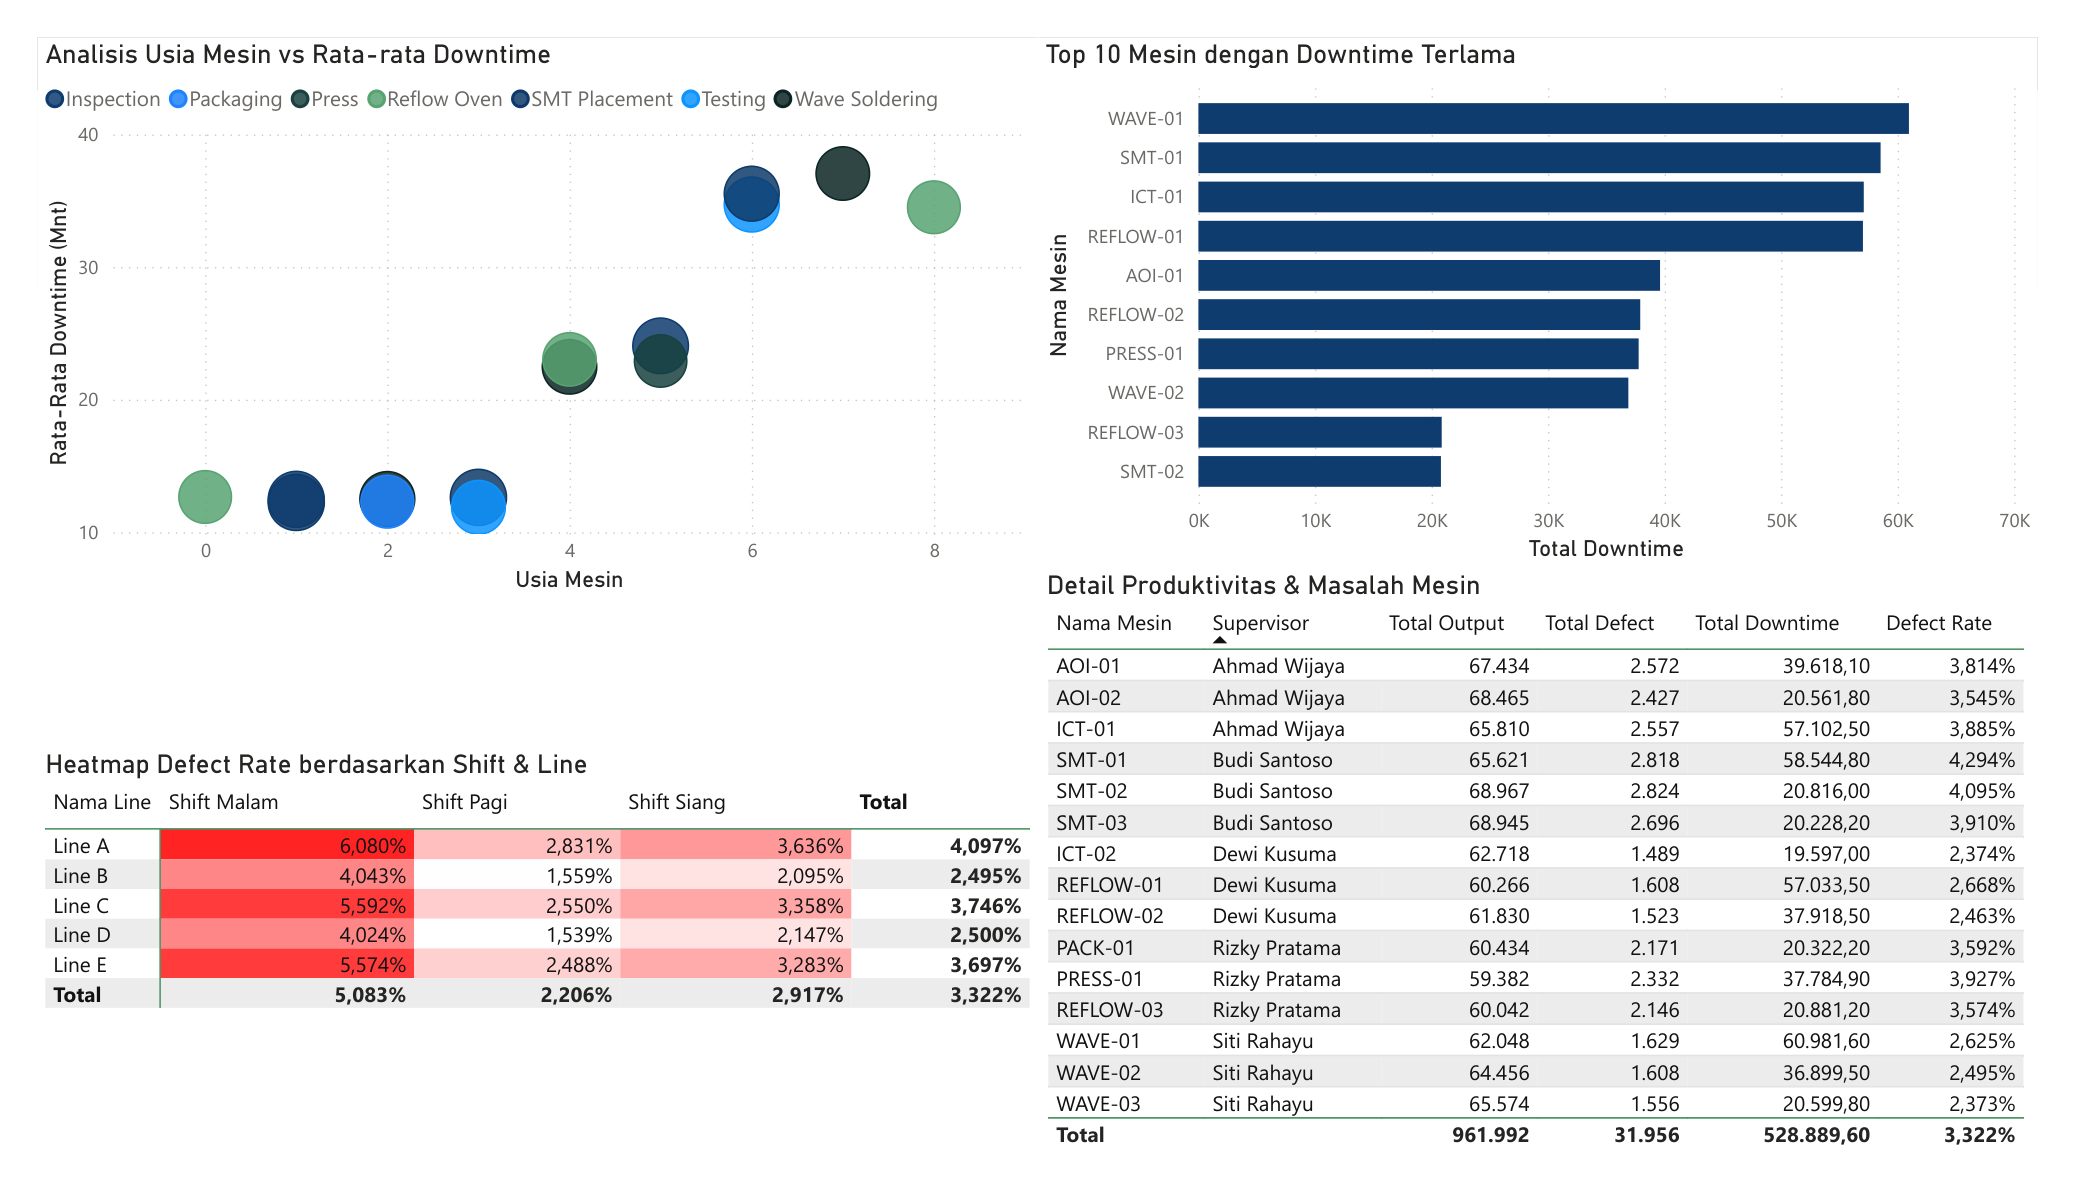

This screenshot's page, from the dashboard's own definition file:
{"tool":"powerbi","page":{"name":"Equipment & Shift Performance","canvas":[1280,720],"ordinal":1},"visuals":[{"type":"scatterChart","title":"Analisis Usia Mesin vs Rata-rata Downtime","fields":{"X":["machine_dim_cleaned.Usia Mesin"],"Size":["Sum(production_fact_cleaned.output_qty)"],"Series":["machine_dim_cleaned.machine_type"],"Y":["Avg(production_fact_cleaned.downtime_minutes1)"]},"box":[0,0,641,360.4],"z":0},{"type":"barChart","title":"Top 10 Mesin dengan Downtime Terlama","fields":{"Category":["machine_dim_cleaned.machine_name"],"Y":["Sum(production_fact_cleaned.downtime_minutes1)"]},"box":[639.5,0,641,339.7],"z":1000},{"type":"pivotTable","title":"Heatmap Defect Rate berdasarkan Shift & Line","fields":{"Rows":["line_dim_cleaned.line_name"],"Columns":["shift_dim_cleaned.shift_name"],"Values":["_Measures.Defect Rate"]},"box":[0,454.9,641,177.2],"z":2000},{"type":"tableEx","title":"Detail Produktivitas & Masalah Mesin","fields":{"Values":["machine_dim_cleaned.machine_name","line_dim_cleaned.supervisor","_Measures.Total Output","_Measures.Total Defect","Sum(production_fact_cleaned.downtime_minutes1)","_Measures.Defect Rate"]},"box":[641,339.7,639.5,381],"z":3000}]}

Visuals, with their boxes on the page's 1280x720 design canvas (x1, y1, x2, y2). These are canvas units, not pixel positions in the 2075x1200 screenshot, which may show the page scaled, cropped or inside an application window:
"Analisis Usia Mesin vs Rata-rata Downtime" scatterChart: rect(0, 0, 641, 360)
"Top 10 Mesin dengan Downtime Terlama" barChart: rect(640, 0, 1280, 340)
"Heatmap Defect Rate berdasarkan Shift & Line" pivotTable: rect(0, 455, 641, 632)
"Detail Produktivitas & Masalah Mesin" tableEx: rect(641, 340, 1280, 721)
